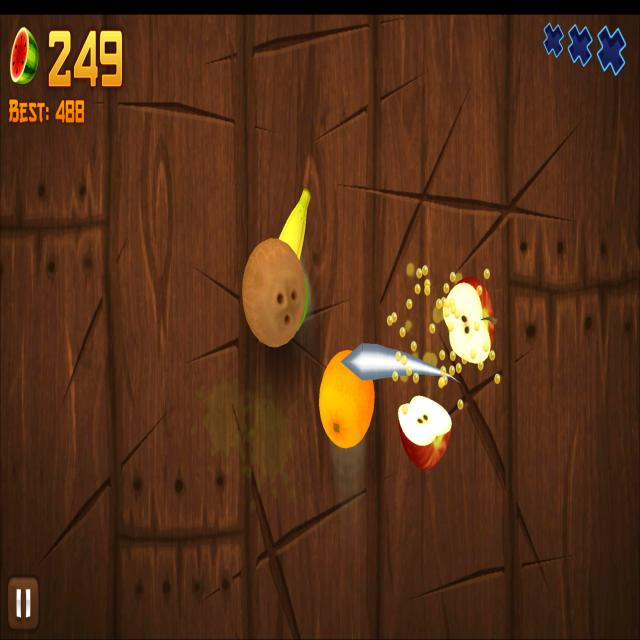fruit: (242, 236, 306, 348), (318, 349, 376, 451), (278, 188, 310, 259)
